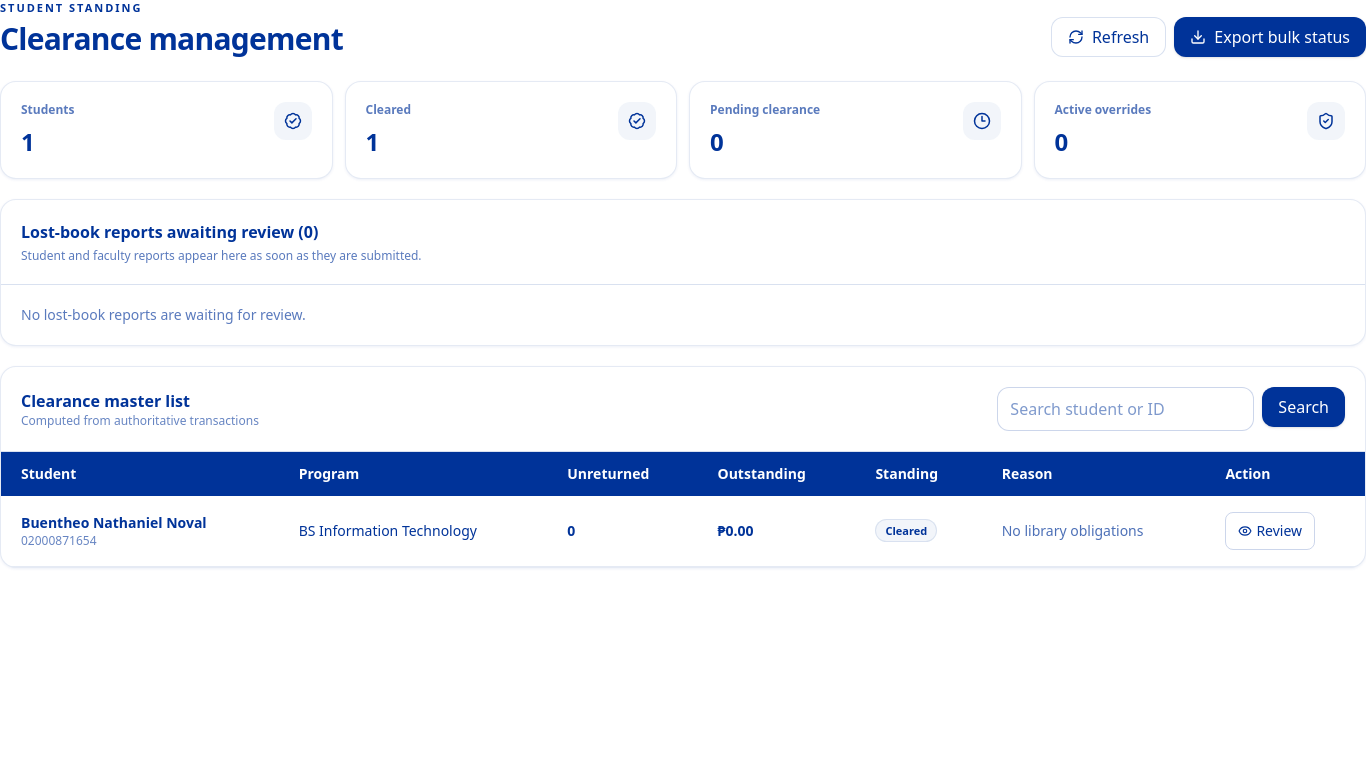
Test: AdminClearancePage simplified exceptions › does not offer an override when the computed standing is already cleared
Click the button "Review" at (1270, 530), box [1225,512,1315,550]
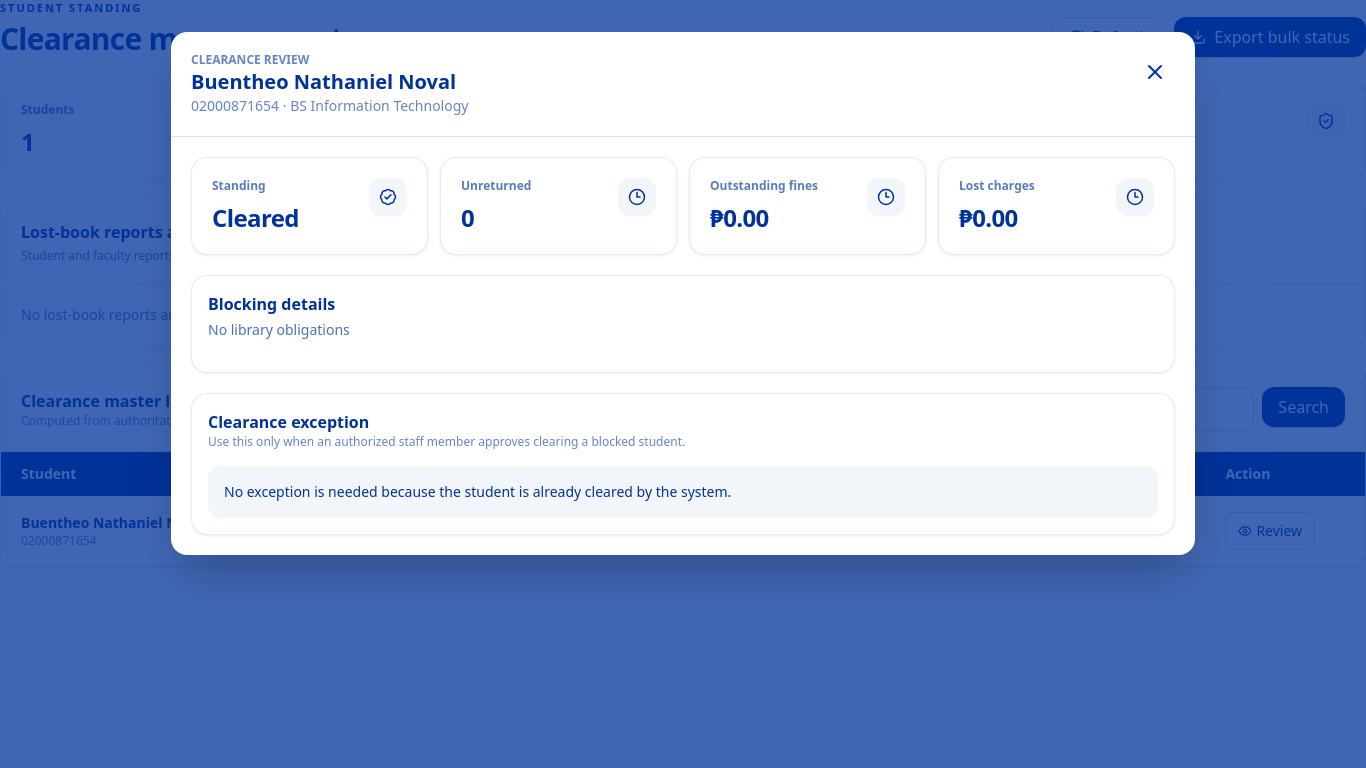
Expected: the text "No exception is needed because the student is already cleared by the system." is shown, [208,466,1158,518]
